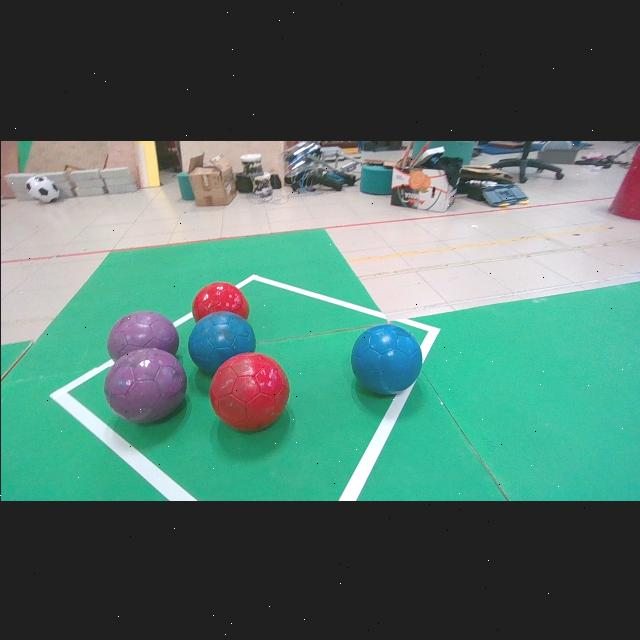B: (351, 323, 421, 394), (187, 311, 255, 373)
P: (103, 347, 186, 422), (107, 311, 177, 360)
R: (209, 352, 288, 430), (191, 280, 248, 320)
